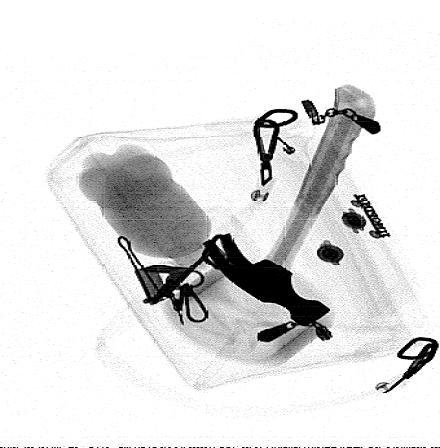Hammer: (201, 83, 377, 326)
